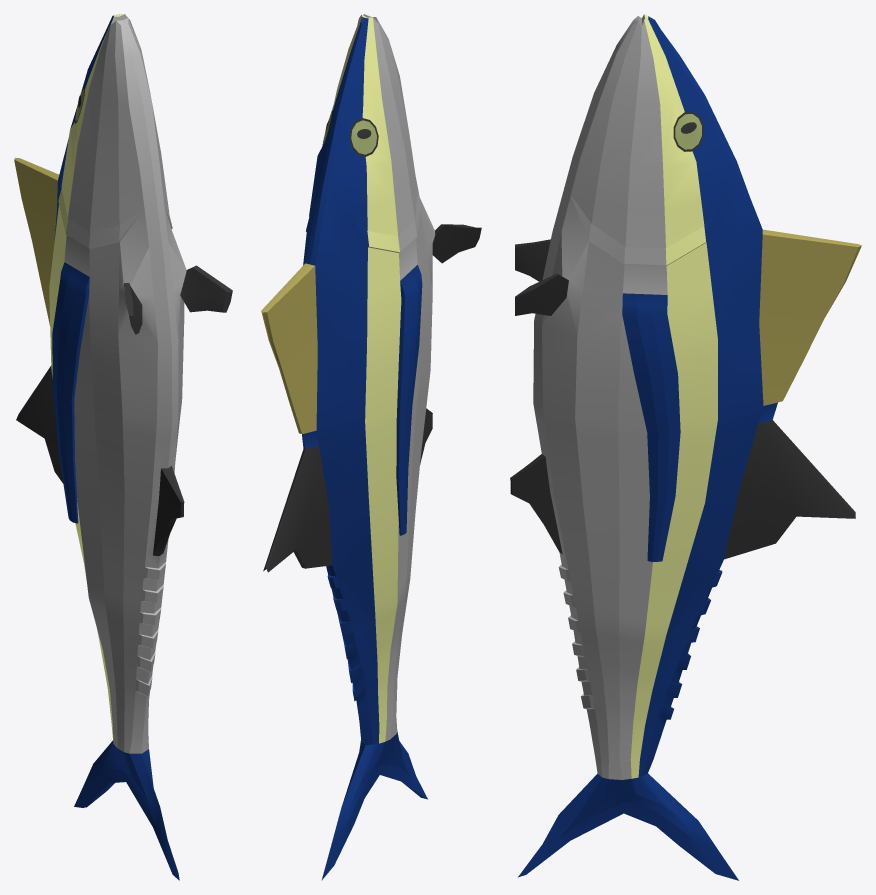
Rendered from Balik2.fbx.
3 views of the same model, side by side, from view 1: azimuth 30°, elevation 25°; view 2: azimuth 150°, elevation 25°; view 3: azimuth 270°, elevation 25° (orthographic). The views are drawn at different scales.
Parts seen in each view (by area): view 1: Cube; view 2: Cube; view 3: Cube.
Part boxes in pixels (<box>): Cube: <box>14,14,232,880</box>; Cube: <box>261,14,481,880</box>; Cube: <box>510,14,861,880</box>.
Size of the model in its own units: 19.78 by 150 by 55.36.
